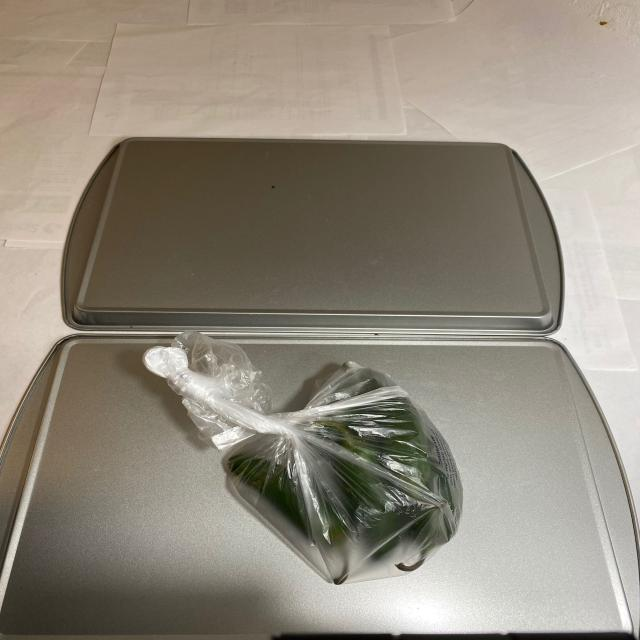chilli: (229, 365, 463, 587)
